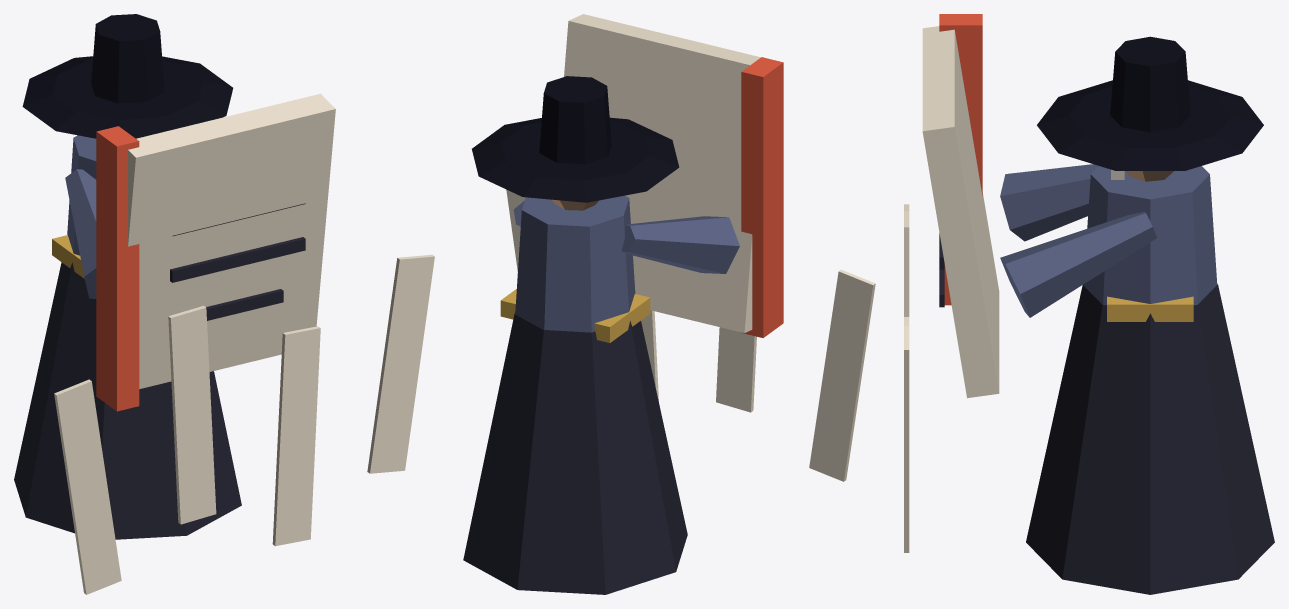
File: boss_b03_seo.glb
The picture shows the model from 3 angles, left to right: view 1: azimuth 30°, elevation 25°; view 2: azimuth 150°, elevation 25°; view 3: azimuth 270°, elevation 25°; orthographic projection. The views are drawn at different scales.
Parts seen in each view (by area): view 1: boss_b03_seo; view 2: boss_b03_seo; view 3: boss_b03_seo.
Boxes of the visible parts, left/top/right/bottom form: boss_b03_seo: left=14, top=14, right=434, bottom=594; boss_b03_seo: left=463, top=14, right=875, bottom=594; boss_b03_seo: left=904, top=14, right=1274, bottom=594.
Bounding box in the file's own units: 1.7 × 2 × 1.37.
